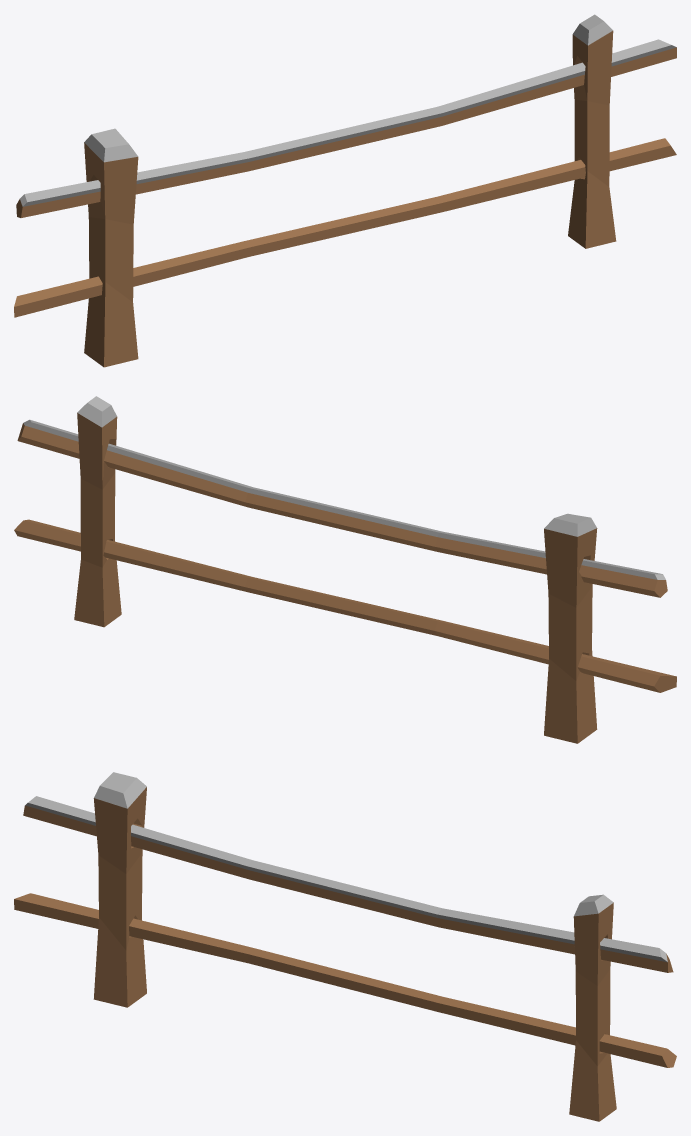
File: Fence_1 Winter.fbx
3 views of the same model, one above another, from view 1: azimuth 30°, elevation 25°; view 2: azimuth 150°, elevation 25°; view 3: azimuth 330°, elevation 25° (orthographic).
Visible parts, largest first — view 1: FenceBroken_mesh.001; view 2: FenceBroken_mesh.001; view 3: FenceBroken_mesh.001.
Boxes of the visible parts, box(x1,y1,x2,y2) form: FenceBroken_mesh.001: box(14, 14, 676, 367); FenceBroken_mesh.001: box(14, 396, 676, 743); FenceBroken_mesh.001: box(14, 772, 676, 1121).
Bounding box in the file's own units: 367 × 116 × 19.02.
